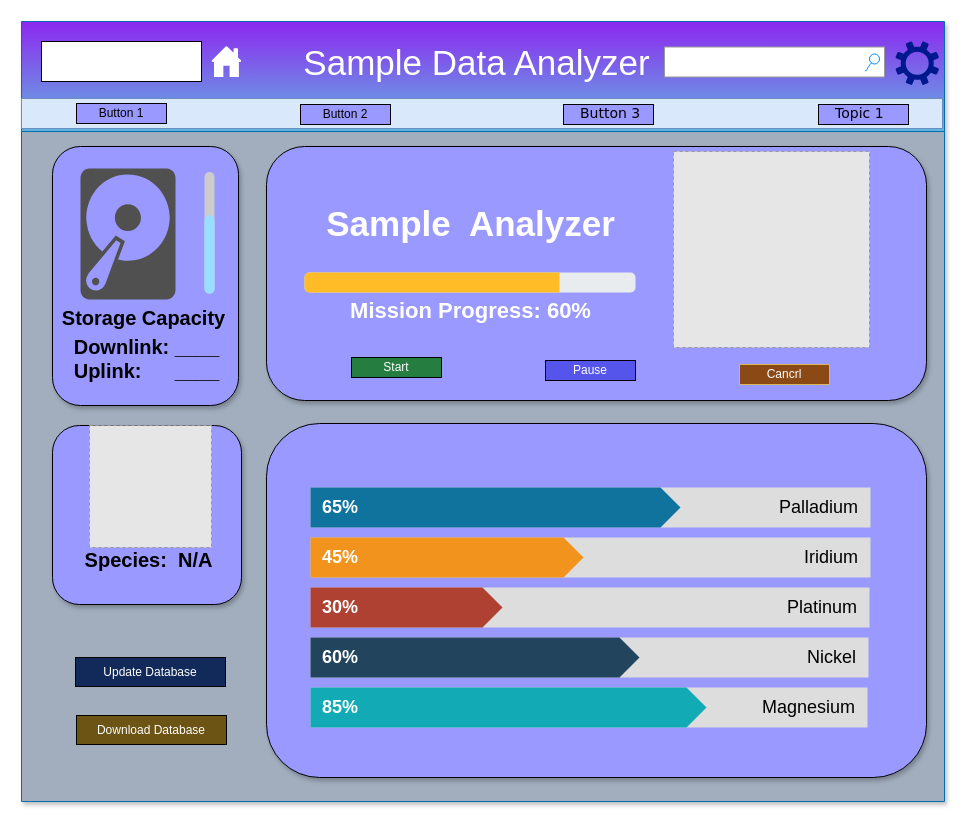
Image size: 968x826. Some labels were removed from this diagram. Grey dashed boxes stand in for pictures. Each missing label, with the centre of its shape:
"LOGO" goes at point (121, 61).
"Search" goes at point (774, 61).
